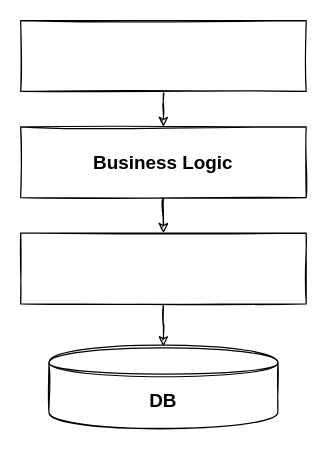
Image size: 327x450. Some labels were removed from this diagram. The box of each missing label's shape, as (x1, y1, x2, y2) in pixels:
Data Access: (19, 232, 306, 304)
User Interface: (19, 19, 306, 91)
